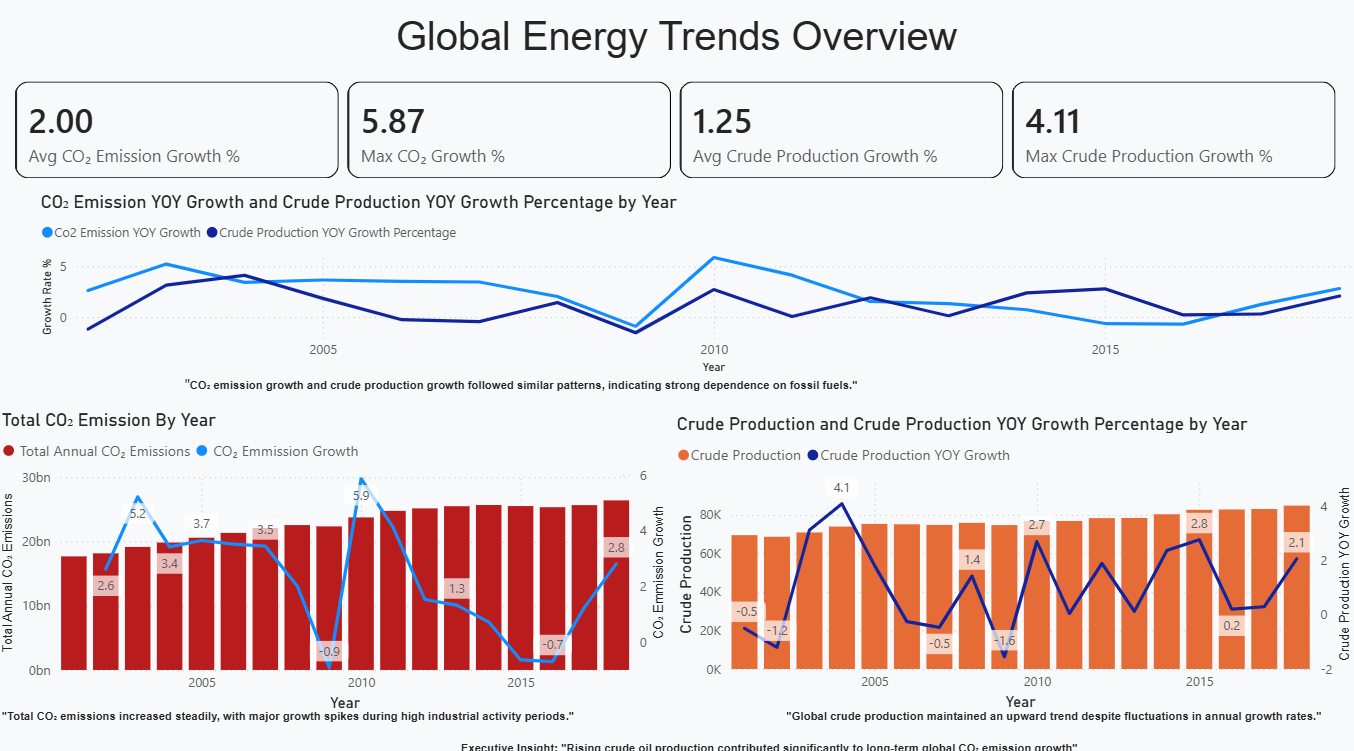

The page's visual inventory and layout, read from the dashboard file:
{"tool":"powerbi","page":{"name":"Page 1","canvas":[1280,720],"ordinal":0},"visuals":[{"type":"lineStackedColumnComboChart","title":"Total CO₂ Emission By Year","fields":{"Category":["energy co2 emission growth.year"],"Y":["Sum(energy co2 emission growth.Total_Annual_CO2_emissions)"],"Y2":["Sum(energy co2 emission growth.Co2_Emmission_Growth)"]},"box":[1.3,385.3,634,288.6],"z":0},{"type":"lineStackedColumnComboChart","title":"Crude Production and Crude Production YOY Growth Percentage by Year","fields":{"Category":["energy crude production.year"],"Y":["Sum(energy crude production.production)"],"Y2":["Sum(energy crude production.Crude_Production_YOY_Growth_Percentage)"]},"box":[635.3,390.4,644.3,283.5],"z":1000},{"type":"lineChart","title":"CO₂ Emission YOY Growth and Crude Production YOY Growth Percentage by Year","fields":{"Y":["Sum(energy co2 emission growth.Co2_Emmission_Growth)","Sum(energy crude production.Crude_Production_YOY_Growth_Percentage)"],"Category":["energy co2 emission growth.year"]},"box":[37.4,181.7,1242.2,176.5],"z":2000},{"type":"cardVisual","fields":{"Data":["energy co2 emission growth.Avg Co2 Emmsion Growth","energy co2 emission growth.Max Co2 Growth","energy crude production.Crude Production Average Growth","energy crude production.Max Crude Production Growth"]},"box":[1.3,61.4,1278,125.3],"z":3000},{"type":"textbox","box":[0,10,1280,70],"z":4000},{"type":"textbox","box":[172.7,347.9,889.1,41.2],"z":5000},{"type":"textbox","box":[1.3,658.5,565.7,34.8],"z":6000},{"type":"textbox","box":[738.4,658.5,541.2,49],"z":7000},{"type":"textbox","box":[433,689.1,716.5,30.9],"z":8000}]}

Visuals, with their boxes in screenshot pixels (x1, y1, x2, y2), scaled from the page's 1280x720 canvas onto the 1354x751 screenshot:
"Total CO₂ Emission By Year" lineStackedColumnComboChart: bbox(1, 402, 672, 703)
"Crude Production and Crude Production YOY Growth Percentage by Year" lineStackedColumnComboChart: bbox(672, 407, 1353, 703)
"CO₂ Emission YOY Growth and Crude Production YOY Growth Percentage by Year" lineChart: bbox(40, 190, 1353, 374)
cardVisual - energy co2 emission growth.Avg Co2 Emmsion Growth x energy co2 emission growth.Max Co2 Growth: bbox(1, 64, 1353, 195)
textbox: bbox(0, 10, 1353, 83)
textbox: bbox(183, 363, 1123, 406)
textbox: bbox(1, 687, 600, 723)
textbox: bbox(781, 687, 1353, 738)
textbox: bbox(458, 719, 1216, 750)
